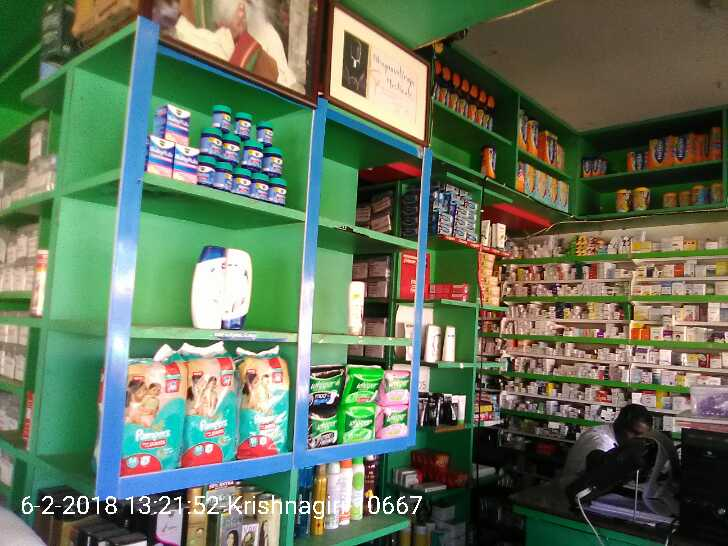vicks: (145, 99, 291, 207)
